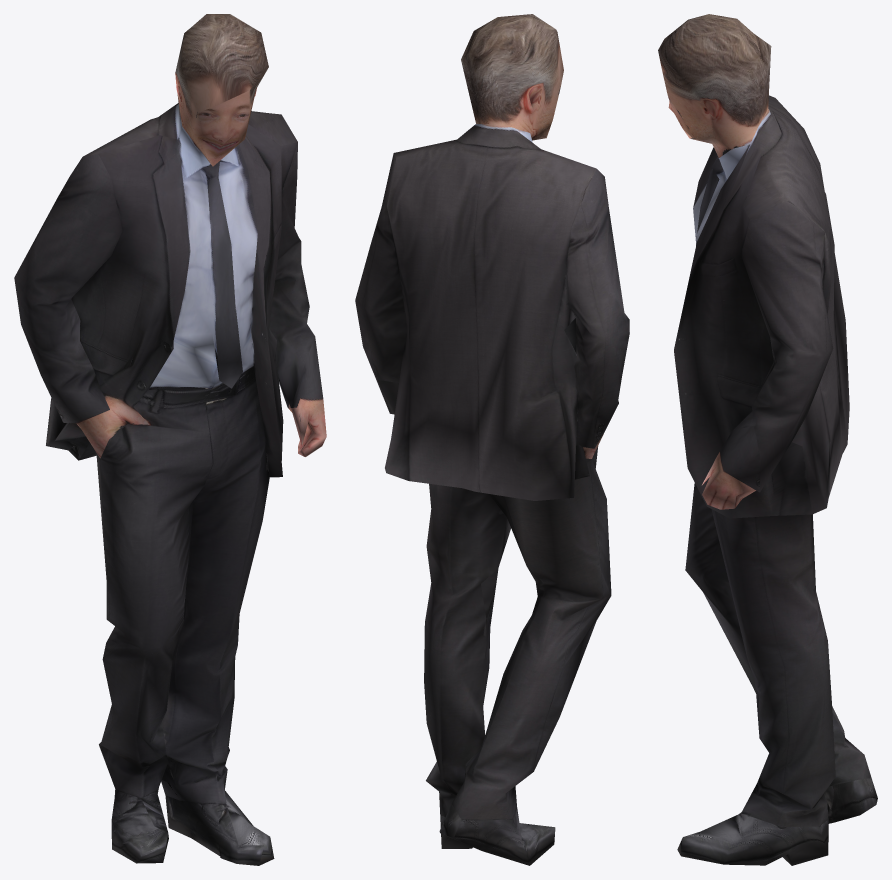
Rendered from human_male_nathan.dae.
The picture shows the model from 3 angles, left to right: view 1: azimuth 30°, elevation 25°; view 2: azimuth 150°, elevation 25°; view 3: azimuth 270°, elevation 25°; orthographic projection. The views are drawn at different scales.
Parts seen in each view (by area): view 1: rp_dennis_posed_004_30k; view 2: rp_dennis_posed_004_30k; view 3: rp_dennis_posed_004_30k.
Part boxes in pixels (x1=…): rp_dennis_posed_004_30k: x1=14, y1=14, x2=326, y2=865; rp_dennis_posed_004_30k: x1=355, y1=14, x2=629, y2=865; rp_dennis_posed_004_30k: x1=658, y1=14, x2=877, y2=865.
Size of the model in its own units: 0.6386 by 0.4473 by 1.87.
Materials: 1 (1 with a texture image).
